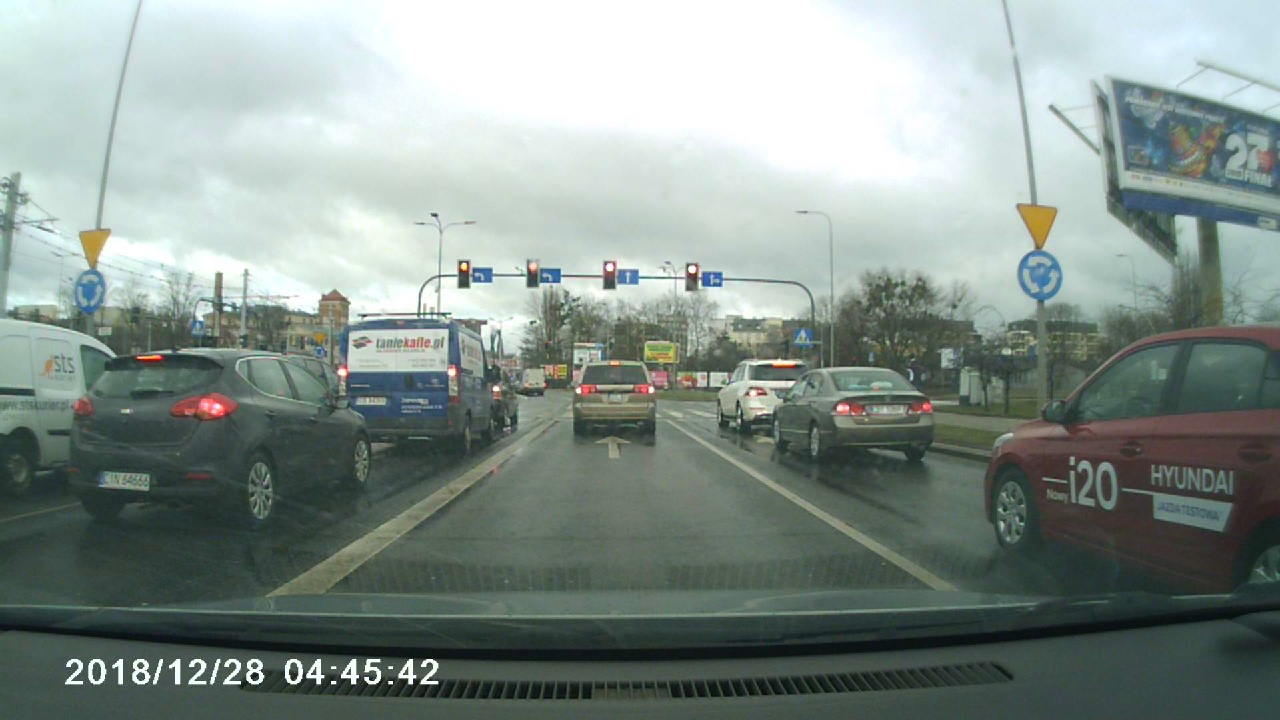A7: (1014, 201, 1065, 249), (76, 226, 111, 268)
C12: (1013, 249, 1068, 300), (70, 267, 110, 313)
